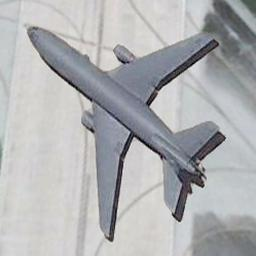Airplane: (25, 24, 226, 242)
